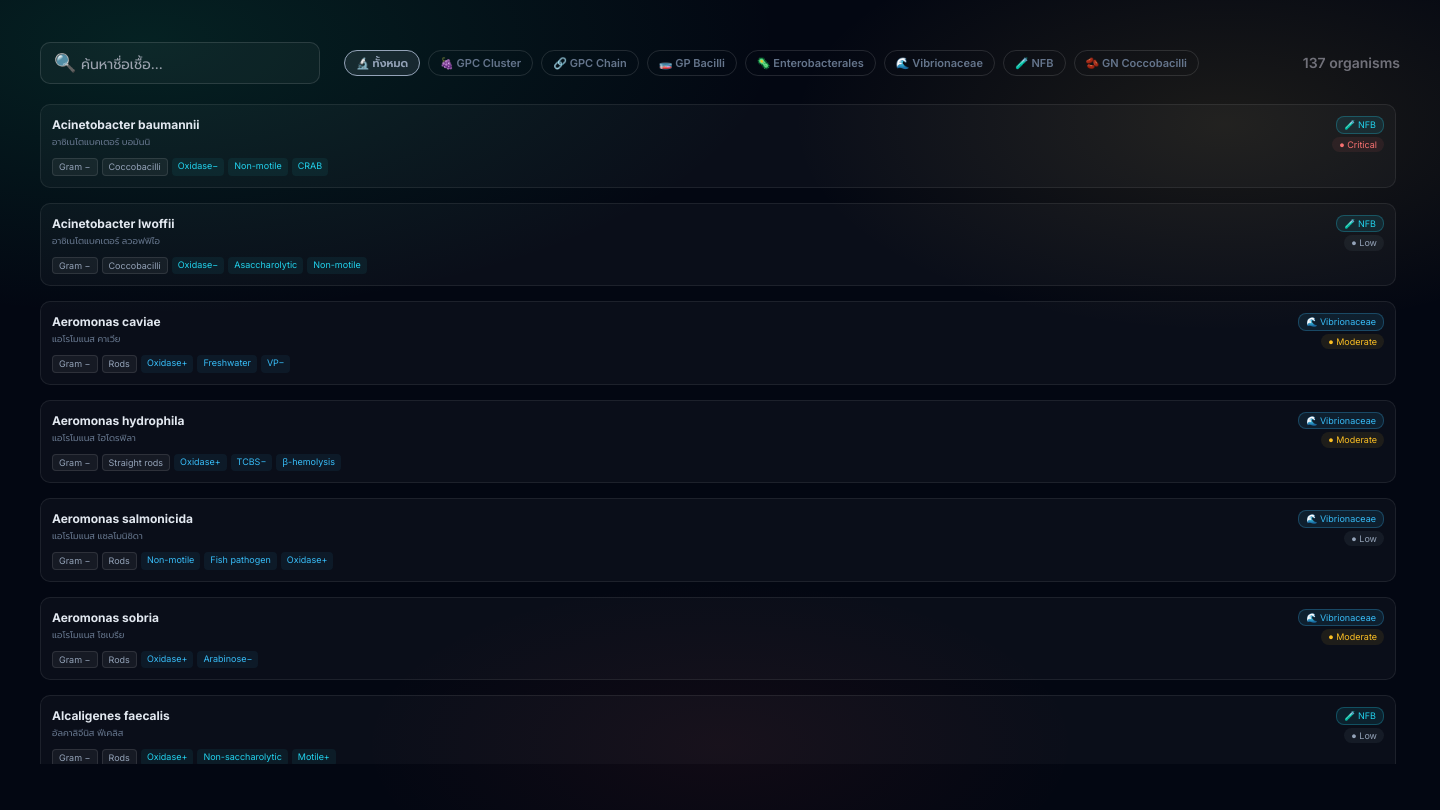
it: LibraryPage › filters by selected group
Click the button "🌊 Vibrionaceae" at x=939, y=63, box [884, 50, 995, 76]
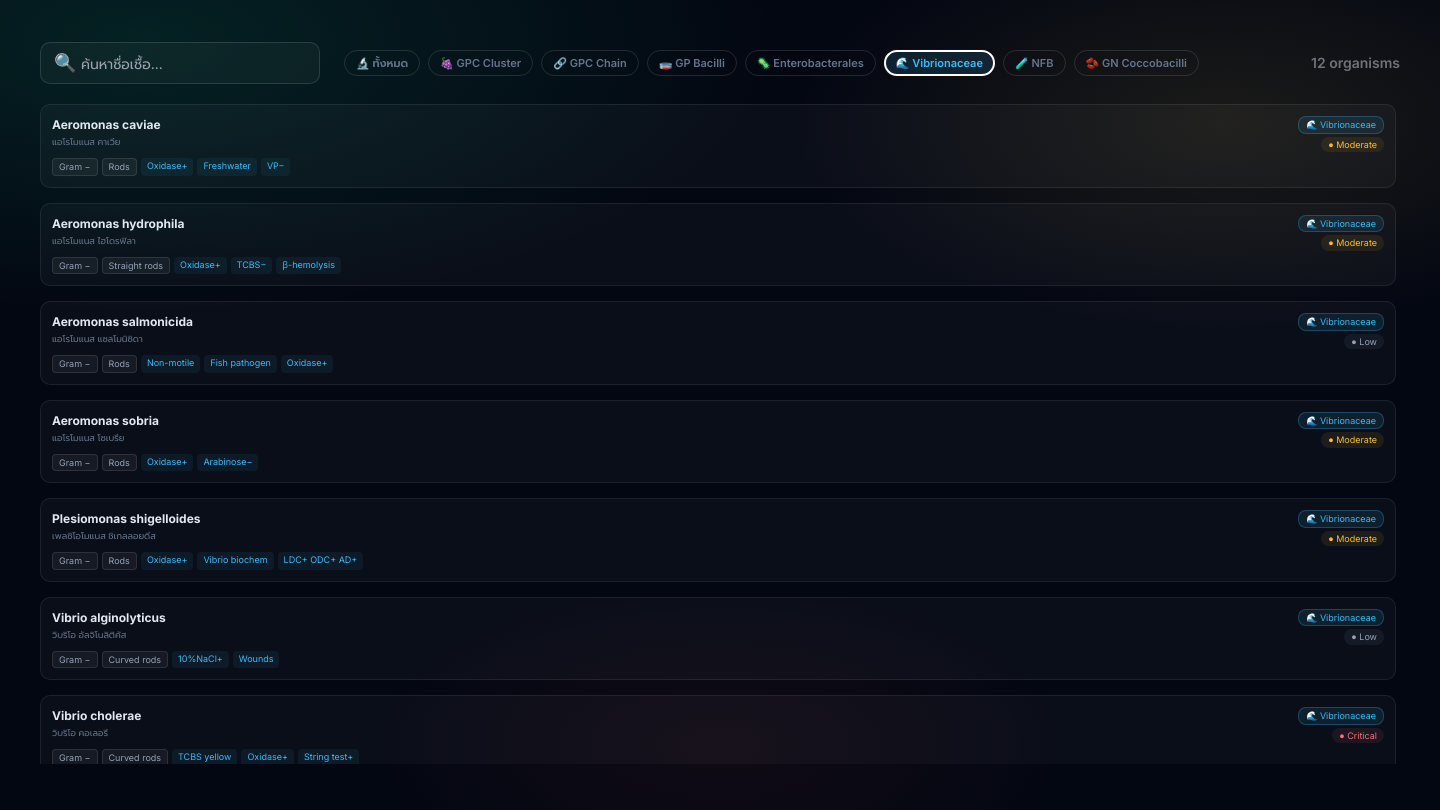
Check: the text "Vibrio cholerae" is shown, box [52, 708, 141, 723]
